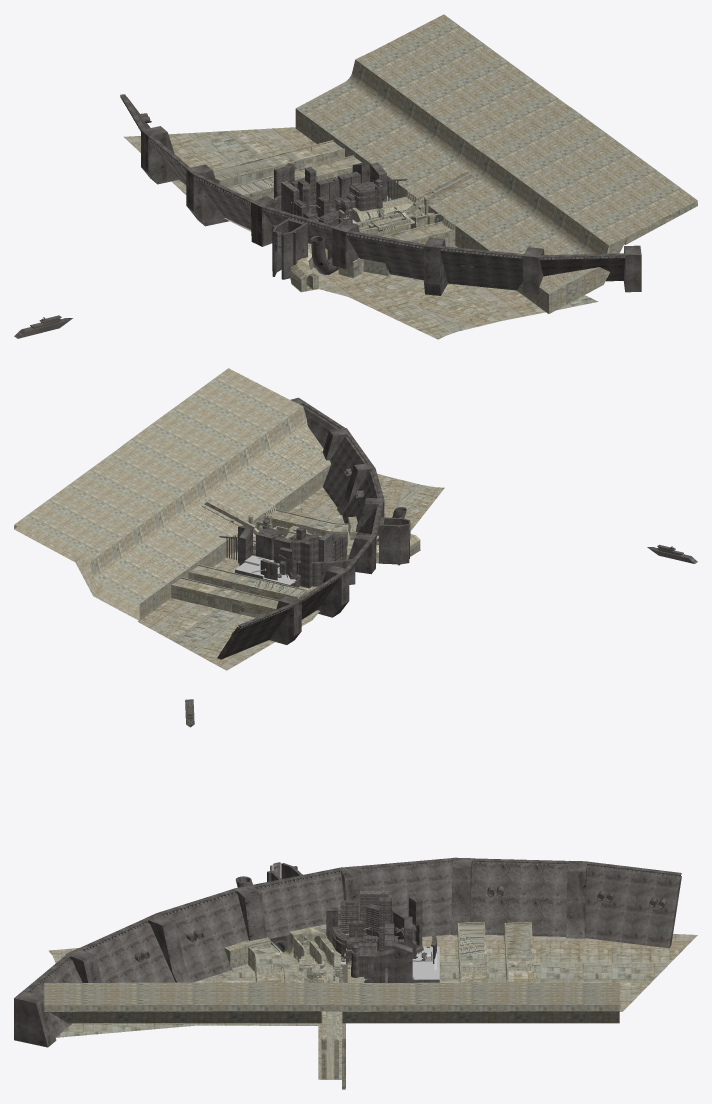
The model's file is SM_Scene_A_Blockout00.fbx.
3 renders of one model, top to bottom at view 1: azimuth 30°, elevation 25°; view 2: azimuth 150°, elevation 25°; view 3: azimuth 270°, elevation 25°, orthographic. The views are drawn at different scales.
Visible parts, largest first — view 1: SM_Scene_A_Blockout00; view 2: SM_Scene_A_Blockout00; view 3: SM_Scene_A_Blockout00.
Boxes of the visible parts, bbox=[...] form: SM_Scene_A_Blockout00: bbox=[14, 14, 697, 339]; SM_Scene_A_Blockout00: bbox=[14, 368, 697, 670]; SM_Scene_A_Blockout00: bbox=[14, 699, 697, 1089].
Size of the model in its own units: 212145 by 31825 by 179277.
